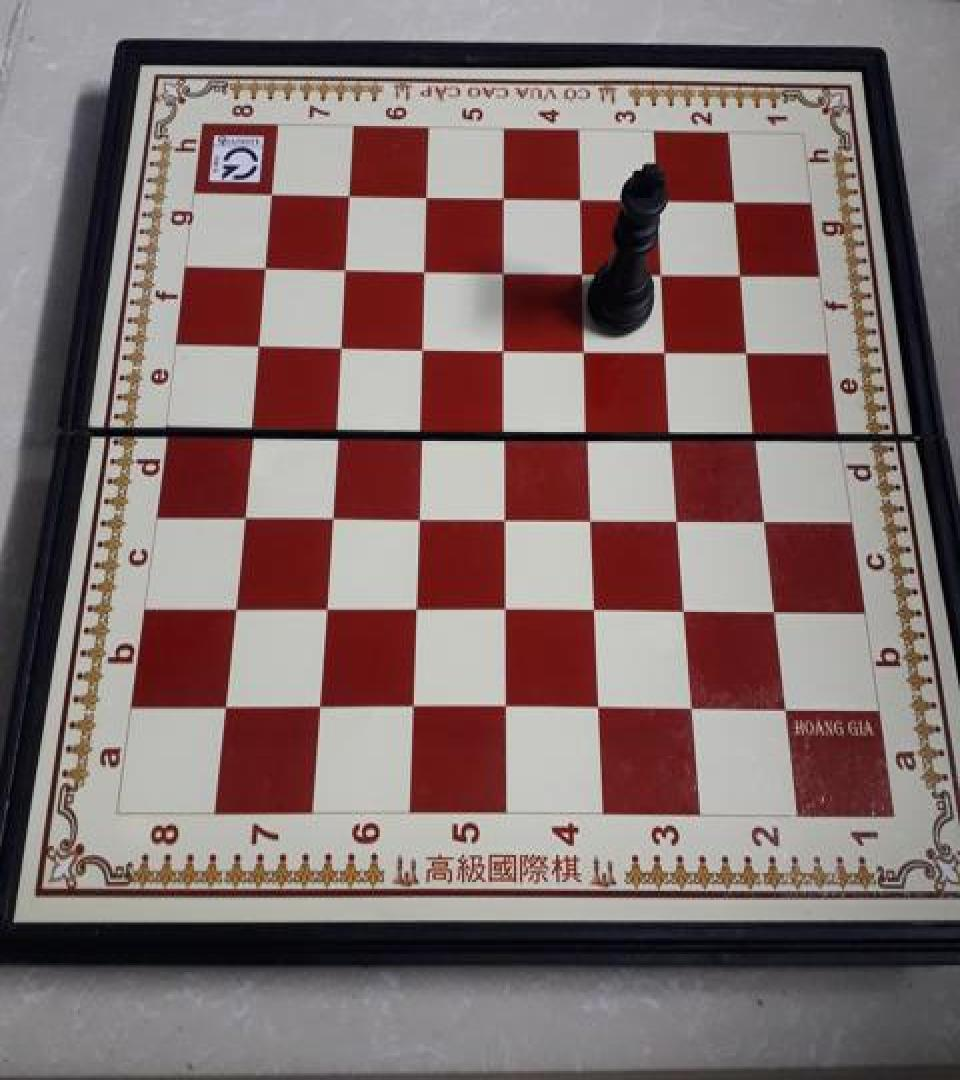xcorner: (678, 688, 710, 725), (770, 689, 802, 726), (581, 588, 613, 625), (209, 684, 241, 720), (304, 685, 336, 721), (398, 686, 430, 722), (492, 688, 524, 724), (585, 688, 617, 724), (219, 584, 251, 620), (310, 585, 342, 621), (401, 586, 433, 622), (491, 587, 523, 623), (671, 590, 703, 626), (760, 590, 792, 626), (228, 490, 260, 526), (316, 492, 348, 528), (404, 493, 436, 529), (491, 494, 523, 530), (578, 495, 610, 531), (664, 496, 696, 532), (750, 497, 782, 533), (236, 403, 268, 439), (321, 405, 353, 441), (406, 406, 438, 442), (491, 407, 523, 443), (575, 408, 607, 444), (658, 410, 690, 446), (742, 412, 774, 448), (244, 322, 276, 358), (326, 323, 358, 359), (409, 324, 441, 360), (490, 326, 522, 362), (572, 328, 604, 364), (734, 331, 766, 367), (251, 244, 283, 280), (331, 246, 363, 282), (411, 248, 443, 284), (490, 250, 522, 286), (569, 251, 601, 287), (648, 253, 680, 289), (726, 254, 758, 290), (258, 172, 290, 208), (336, 174, 368, 210), (413, 176, 445, 212), (490, 178, 522, 214), (566, 179, 598, 215), (643, 181, 675, 217), (719, 182, 751, 218), (653, 329, 685, 364)
